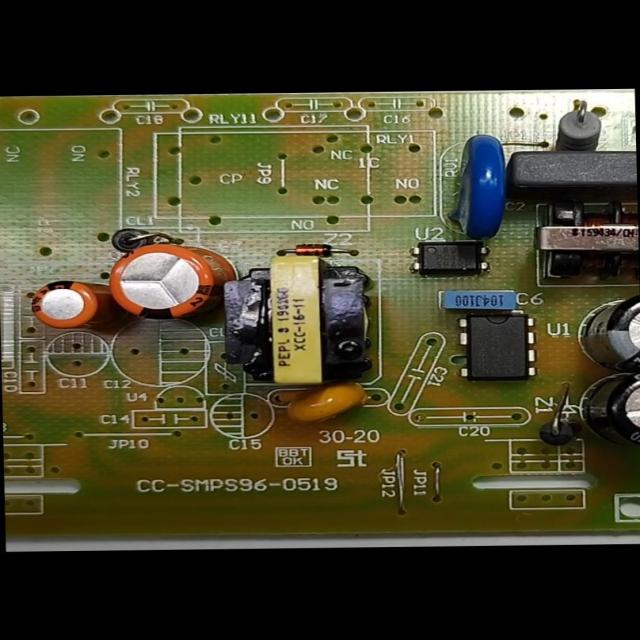Cap1: (94, 238, 240, 326)
Cap2: (13, 264, 111, 344)
Cap3: (549, 287, 639, 375)
Cap4: (554, 367, 639, 462)
MOSFET: (438, 302, 547, 389)
Mov: (416, 121, 514, 250)
Resistor: (544, 94, 612, 152)
Transformer: (194, 235, 395, 403), (496, 178, 639, 302)
